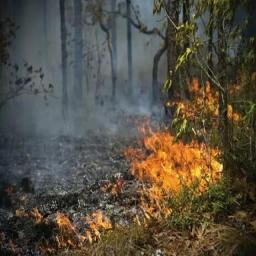Low smoke: (5, 6, 126, 178)
Small fire: (128, 73, 245, 226), (12, 201, 119, 252)
